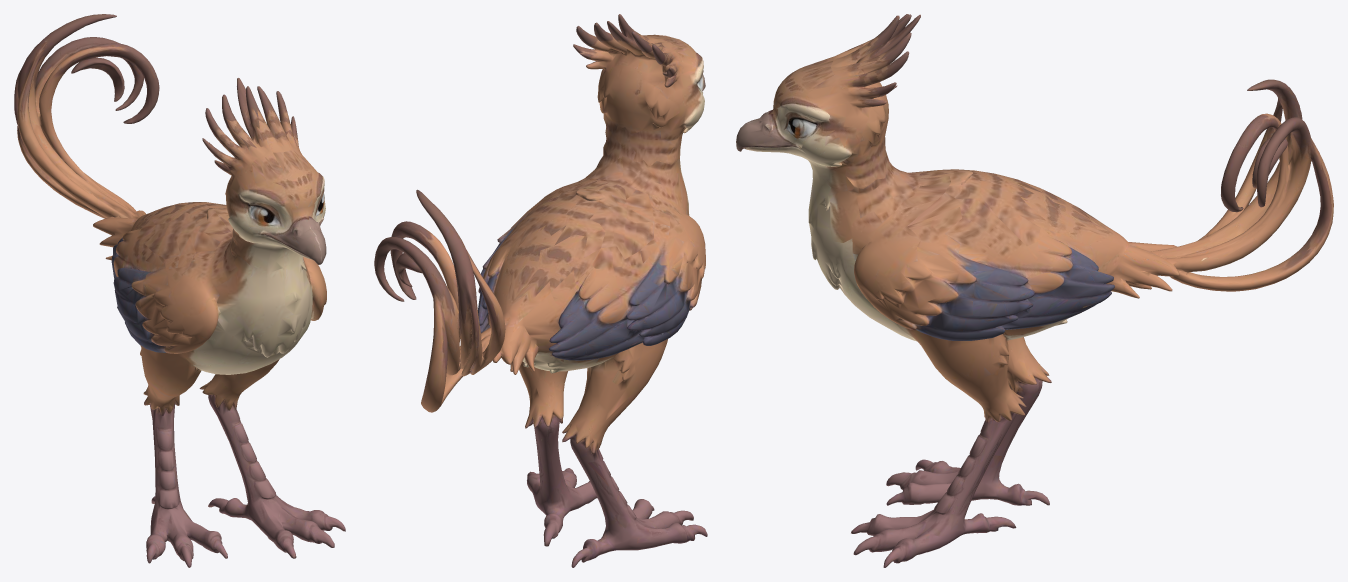
3 views of the same model, side by side, from view 1: azimuth 30°, elevation 25°; view 2: azimuth 150°, elevation 25°; view 3: azimuth 270°, elevation 25° (orthographic). The views are drawn at different scales.
Visible parts, largest first — view 1: Mesh_0; view 2: Mesh_0; view 3: Mesh_0.
Part boxes in pixels (left/top/right/bottom): Mesh_0: left=14, top=14, right=345, bottom=567; Mesh_0: left=374, top=14, right=707, bottom=567; Mesh_0: left=736, top=14, right=1333, bottom=567.
Bounding box in the file's own units: 0.7318 × 1.77 × 1.9.
Materials: 1 (1 with a texture image).
